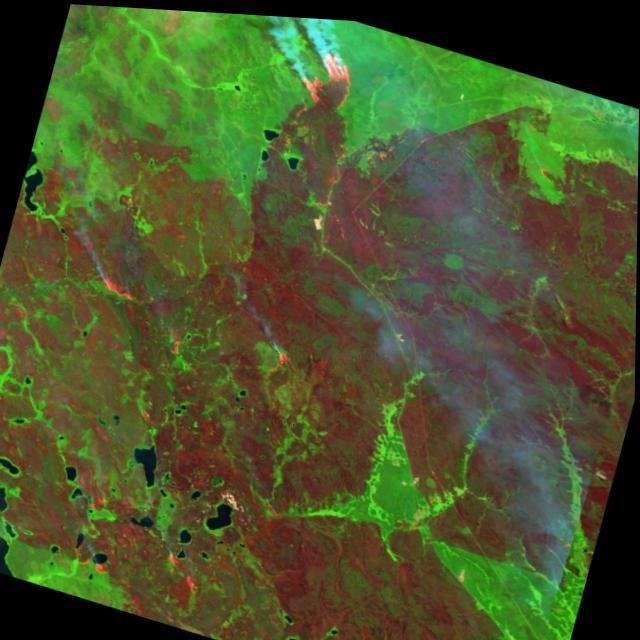fire: (287, 32, 366, 116), (152, 539, 227, 601), (81, 260, 155, 310), (251, 329, 309, 384), (64, 533, 124, 582), (74, 478, 124, 520)
